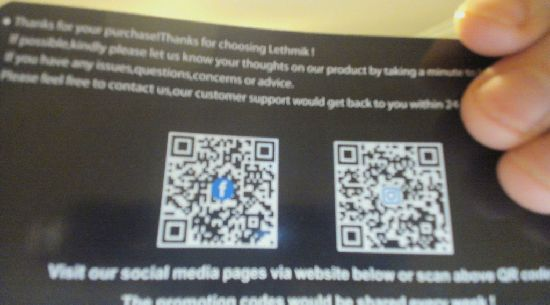QR_CODE: (322, 126, 461, 266), (150, 118, 284, 258)
